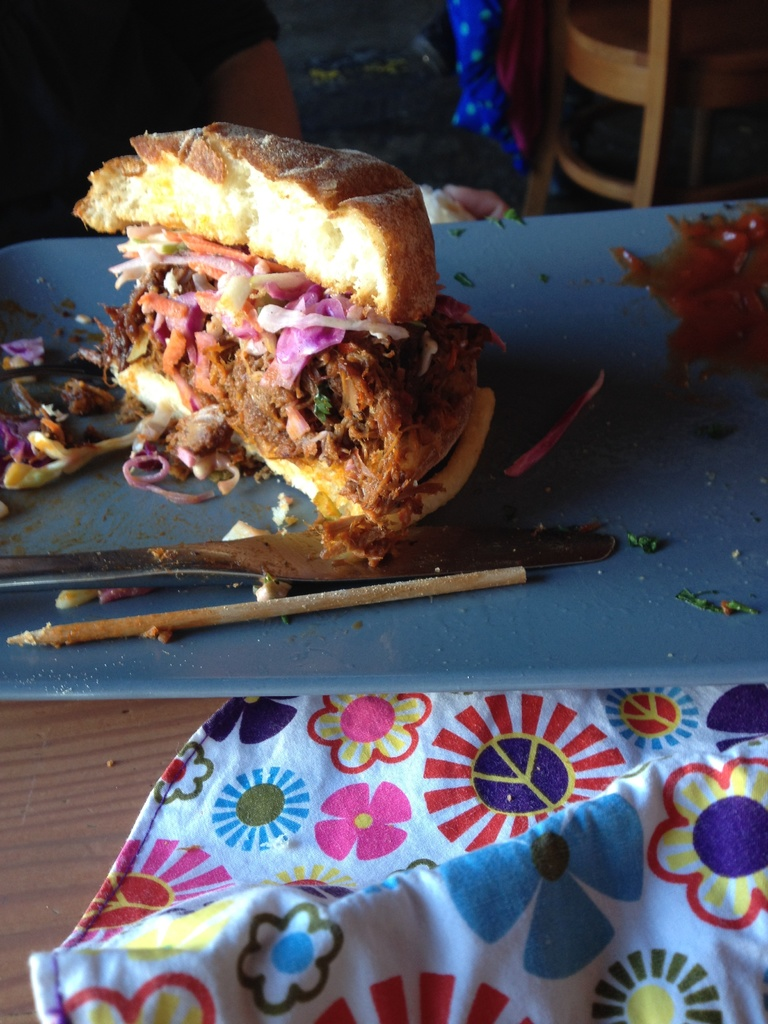Hamburger: (76, 120, 496, 559)
